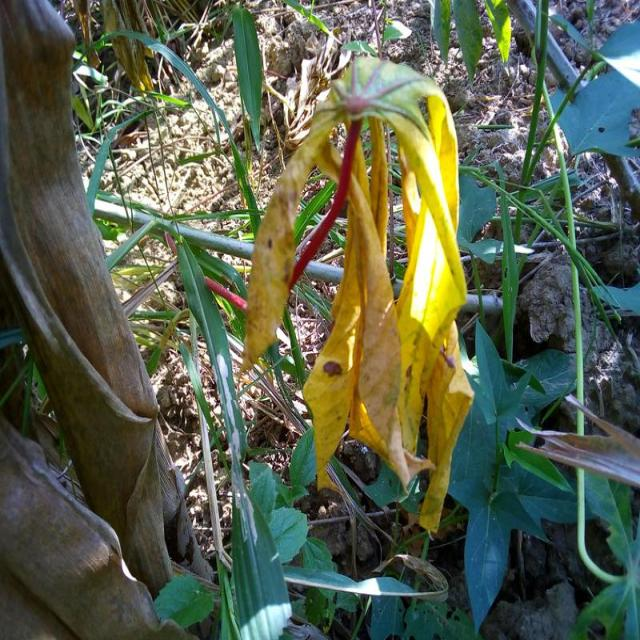cassava leaf: (241, 55, 474, 532)
